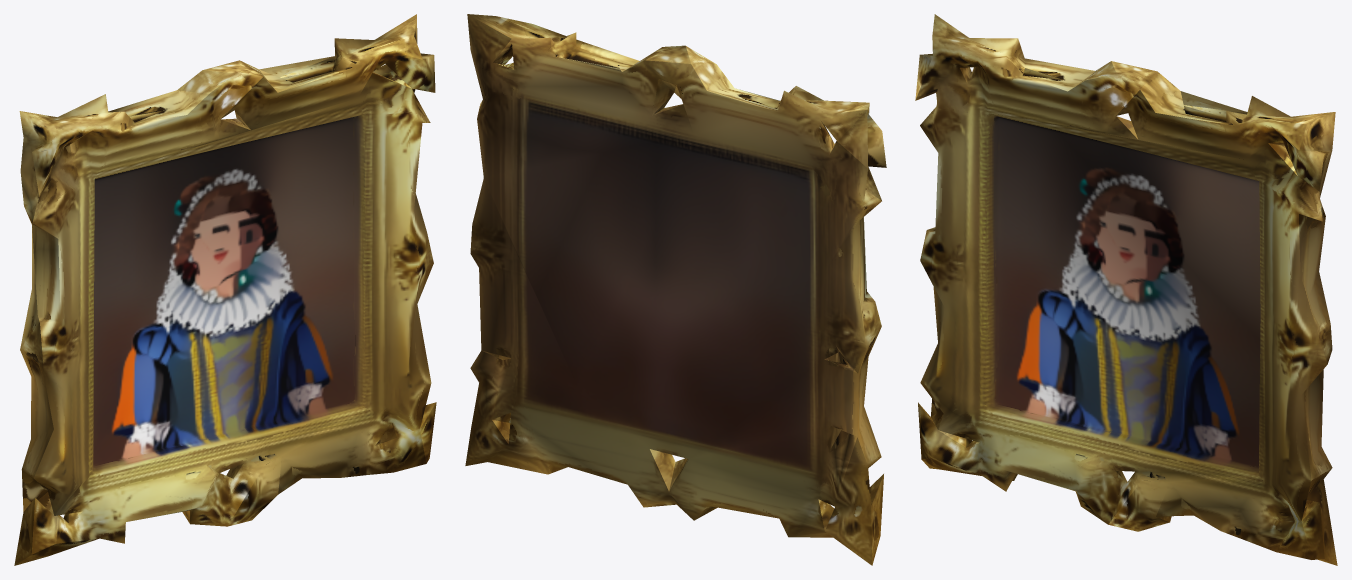
The model's file is portrait-noblewoman.glb.
3 views of the same model, side by side, from view 1: azimuth 30°, elevation 25°; view 2: azimuth 150°, elevation 25°; view 3: azimuth 330°, elevation 25° (orthographic).
Visible parts, largest first — view 1: geometry_0.001; view 2: geometry_0.001; view 3: geometry_0.001.
Boxes of the visible parts, box(x1,y1,x2,y2) form: geometry_0.001: box(14, 14, 436, 565); geometry_0.001: box(465, 14, 886, 565); geometry_0.001: box(915, 14, 1337, 565).
Bounding box in the file's own units: 0.9357 × 0.9996 × 0.0974.
1 material, 1 textured.
